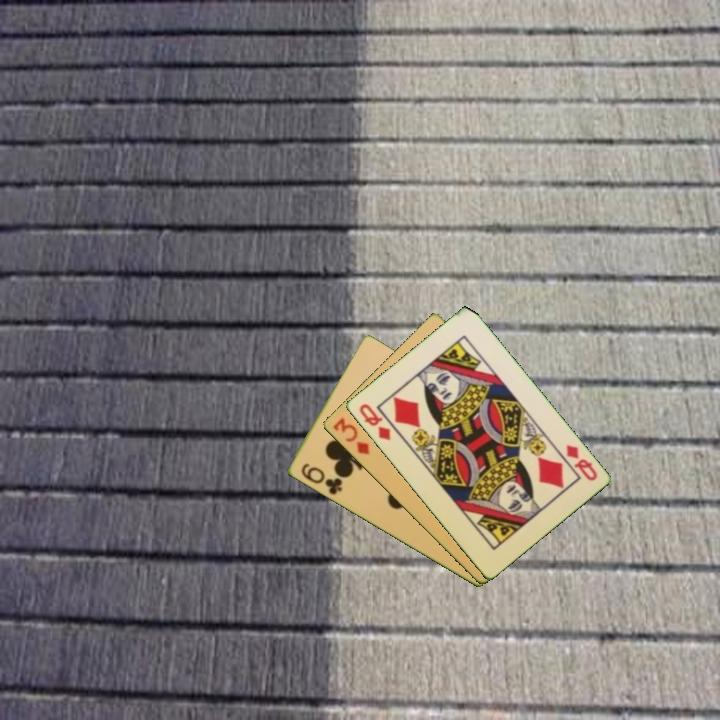3d: (329, 414, 372, 458)
6c: (297, 460, 345, 498)
Qd: (355, 400, 393, 444), (562, 441, 600, 484)
